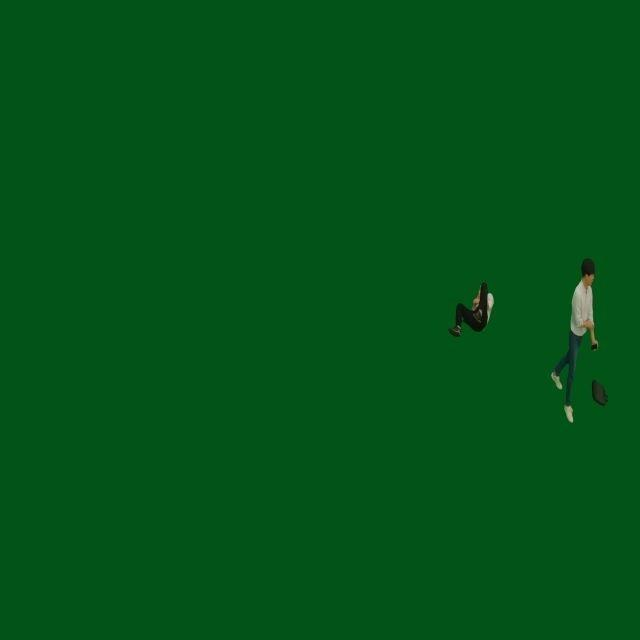non-fight: (551, 256, 607, 424), (452, 277, 494, 341)
